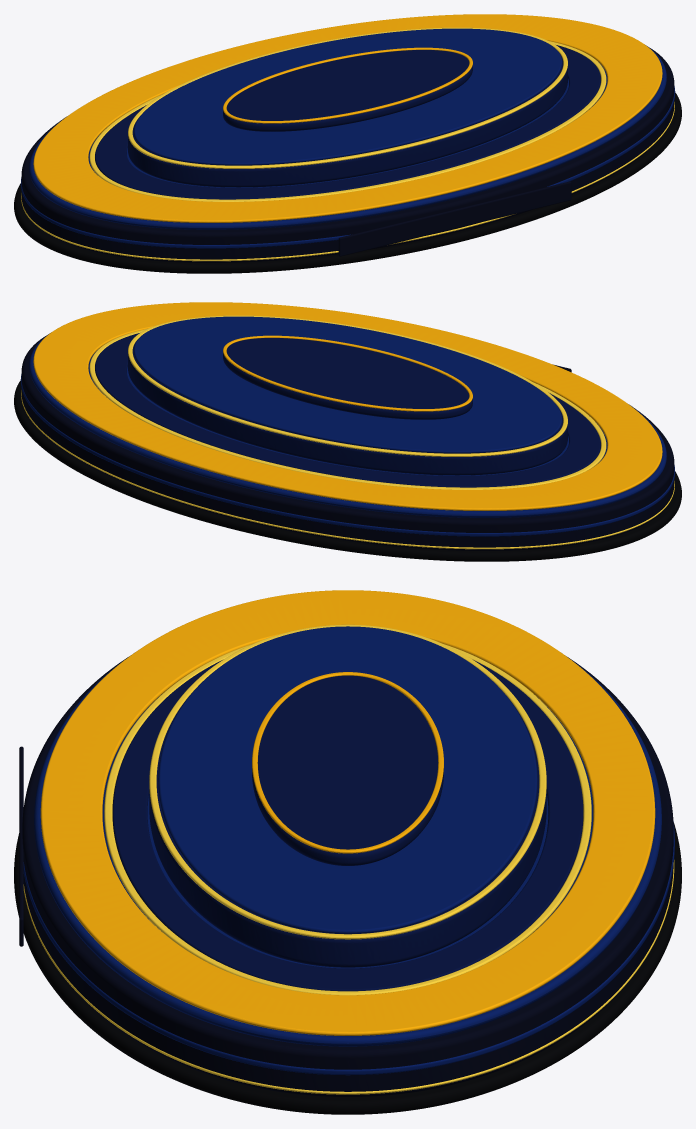
Rendered from podio.obj.
3 views of the same model, one above another, from view 1: azimuth 30°, elevation 25°; view 2: azimuth 150°, elevation 25°; view 3: azimuth 270°, elevation 25° (orthographic). The views are drawn at different scales.
Parts seen in each view (by area): view 1: Anillo_amarillo_exterior_Amarillo_oro_|_banda, Superficie_central_de_campeones_Azul_real_|_superficie, Plataforma_principal_|_faldon_azul_Azul_marino_|_faldon, Tarima_trasera_de_campeones_Azul_campeonato_|_esmalte, Anillo_azul_interior_Azul_campeonato_|_esmalte, Escenario_central_elevado_Azul_campeonato_|_esmalte, Base_inferior_|_sombra_Negro_|_juntas, Cubierta_superior_azul_Azul_real_|_superficie, Panel_frontal_|_campeonato_Azul_marino_|_faldon, Borde_dorado_escenario_central_Oro_claro_|_filete, Filete_oro_interior_Oro_claro_|_filete, Banda_lateral_azul_brillante_Azul_real_|_superficie (+2 smaller); view 2: Anillo_amarillo_exterior_Amarillo_oro_|_banda, Superficie_central_de_campeones_Azul_real_|_superficie, Plataforma_principal_|_faldon_azul_Azul_marino_|_faldon, Tarima_trasera_de_campeones_Azul_campeonato_|_esmalte, Anillo_azul_interior_Azul_campeonato_|_esmalte, Escenario_central_elevado_Azul_campeonato_|_esmalte, Base_inferior_|_sombra_Negro_|_juntas, Cubierta_superior_azul_Azul_real_|_superficie, Borde_dorado_escenario_central_Oro_claro_|_filete, Banda_lateral_azul_brillante_Azul_real_|_superficie, Filete_oro_interior_Oro_claro_|_filete, Borde_tarima_trasera_Amarillo_oro_|_banda (+1 smaller); view 3: Anillo_amarillo_exterior_Amarillo_oro_|_banda, Superficie_central_de_campeones_Azul_real_|_superficie, Plataforma_principal_|_faldon_azul_Azul_marino_|_faldon, Tarima_trasera_de_campeones_Azul_campeonato_|_esmalte, Anillo_azul_interior_Azul_campeonato_|_esmalte, Base_inferior_|_sombra_Negro_|_juntas, Cubierta_superior_azul_Azul_real_|_superficie, Escenario_central_elevado_Azul_campeonato_|_esmalte, Filete_oro_interior_Oro_claro_|_filete, Borde_dorado_escenario_central_Oro_claro_|_filete, Banda_lateral_azul_brillante_Azul_real_|_superficie, Borde_tarima_trasera_Amarillo_oro_|_banda (+2 smaller).
Boxes of the visible parts, left/top/right/bottom form: Anillo_amarillo_exterior_Amarillo_oro_|_banda: left=33, top=14, right=662, bottom=222; Superficie_central_de_campeones_Azul_real_|_superficie: left=133, top=28, right=562, bottom=165; Plataforma_principal_|_faldon_azul_Azul_marino_|_faldon: left=21, top=48, right=674, bottom=262; Tarima_trasera_de_campeones_Azul_campeonato_|_esmalte: left=223, top=50, right=472, bottom=131; Anillo_azul_interior_Azul_campeonato_|_esmalte: left=95, top=45, right=600, bottom=199; Escenario_central_elevado_Azul_campeonato_|_esmalte: left=128, top=51, right=567, bottom=187; Base_inferior_|_sombra_Negro_|_juntas: left=14, top=93, right=681, bottom=273; Cubierta_superior_azul_Azul_real_|_superficie: left=29, top=45, right=666, bottom=229; Panel_frontal_|_campeonato_Azul_marino_|_faldon: left=338, top=181, right=571, bottom=256; Borde_dorado_escenario_central_Oro_claro_|_filete: left=128, top=27, right=567, bottom=168; Filete_oro_interior_Oro_claro_|_filete: left=89, top=41, right=606, bottom=201; Banda_lateral_azul_brillante_Azul_real_|_superficie: left=20, top=86, right=675, bottom=248; Anillo_amarillo_exterior_Amarillo_oro_|_banda: left=33, top=302, right=662, bottom=510; Superficie_central_de_campeones_Azul_real_|_superficie: left=133, top=316, right=562, bottom=453; Plataforma_principal_|_faldon_azul_Azul_marino_|_faldon: left=21, top=336, right=674, bottom=550; Tarima_trasera_de_campeones_Azul_campeonato_|_esmalte: left=223, top=338, right=472, bottom=419; Anillo_azul_interior_Azul_campeonato_|_esmalte: left=95, top=333, right=600, bottom=487; Escenario_central_elevado_Azul_campeonato_|_esmalte: left=128, top=339, right=567, bottom=475; Base_inferior_|_sombra_Negro_|_juntas: left=14, top=381, right=681, bottom=561; Cubierta_superior_azul_Azul_real_|_superficie: left=29, top=333, right=666, bottom=517; Borde_dorado_escenario_central_Oro_claro_|_filete: left=128, top=315, right=567, bottom=456; Banda_lateral_azul_brillante_Azul_real_|_superficie: left=20, top=374, right=675, bottom=536; Filete_oro_interior_Oro_claro_|_filete: left=89, top=329, right=606, bottom=489; Borde_tarima_trasera_Amarillo_oro_|_banda: left=223, top=335, right=472, bottom=411; Anillo_amarillo_exterior_Amarillo_oro_|_banda: left=40, top=590, right=655, bottom=1035; Superficie_central_de_campeones_Azul_real_|_superficie: left=158, top=626, right=537, bottom=933; Plataforma_principal_|_faldon_azul_Azul_marino_|_faldon: left=22, top=657, right=673, bottom=1096; Tarima_trasera_de_campeones_Azul_campeonato_|_esmalte: left=252, top=675, right=443, bottom=865; Anillo_azul_interior_Azul_campeonato_|_esmalte: left=112, top=660, right=583, bottom=991; Base_inferior_|_sombra_Negro_|_juntas: left=14, top=822, right=681, bottom=1114; Cubierta_superior_azul_Azul_real_|_superficie: left=34, top=656, right=661, bottom=1046; Escenario_central_elevado_Azul_campeonato_|_esmalte: left=149, top=693, right=546, bottom=967; Filete_oro_interior_Oro_claro_|_filete: left=104, top=644, right=591, bottom=995; Borde_dorado_escenario_central_Oro_claro_|_filete: left=149, top=624, right=546, bottom=939; Banda_lateral_azul_brillante_Azul_real_|_superficie: left=23, top=821, right=674, bottom=1075; Borde_tarima_trasera_Amarillo_oro_|_banda: left=252, top=672, right=443, bottom=853.
Size of the model in its own units: 13.3 by 1.6 by 8.
